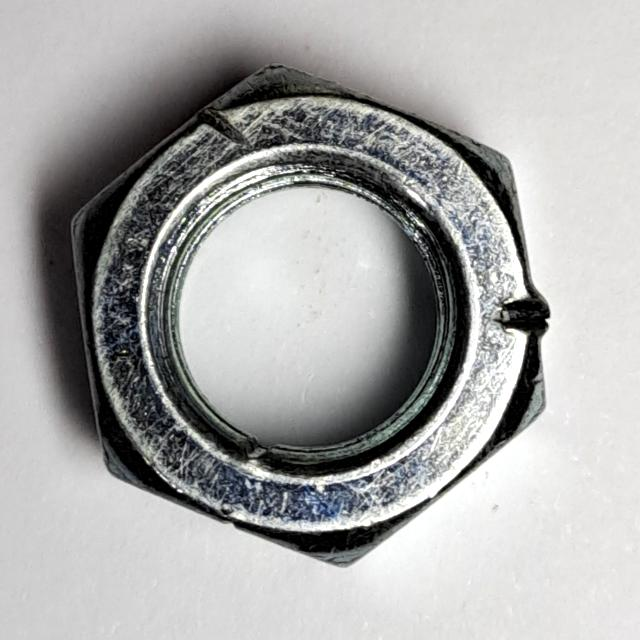Scratches: (53, 53, 567, 581)
